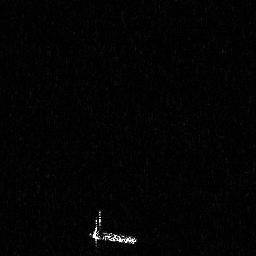ship: (86, 209, 140, 250)
